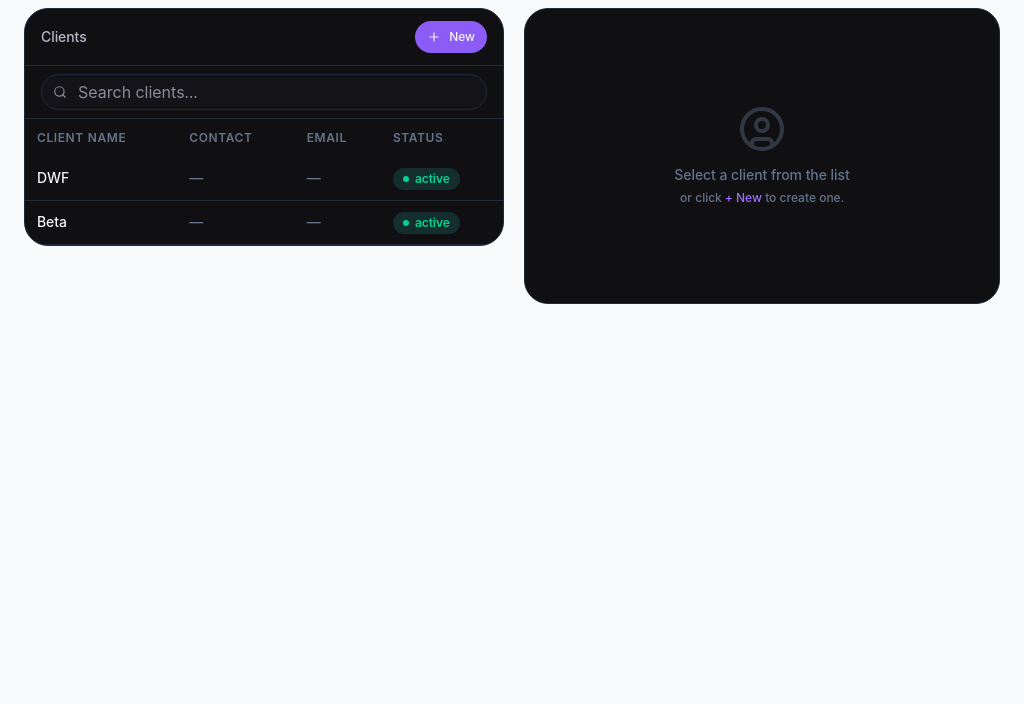
Test case: ClientManagementPage reporting currency › keeps the new client view intact when a save started for another client completes
This screenshot has width=1024, height=704.
Click the text "DWF": x=53, y=178 [37, 170, 69, 186]
(page scrolled)
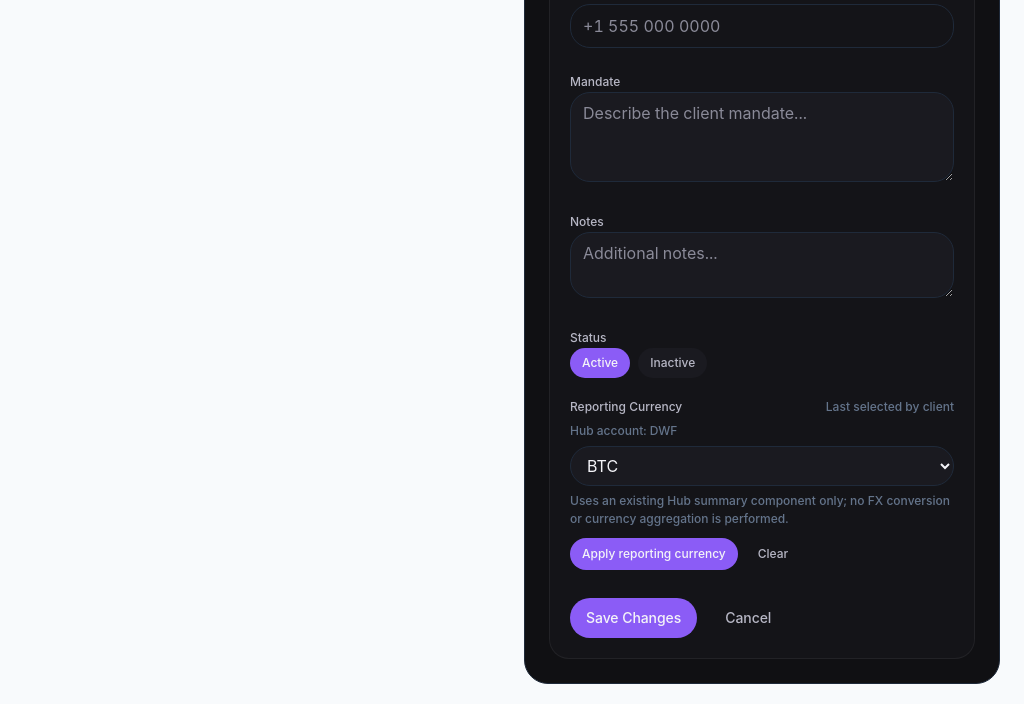
Click the button "Apply reporting currency": x=654, y=554 [570, 538, 738, 570]
(page scrolled)
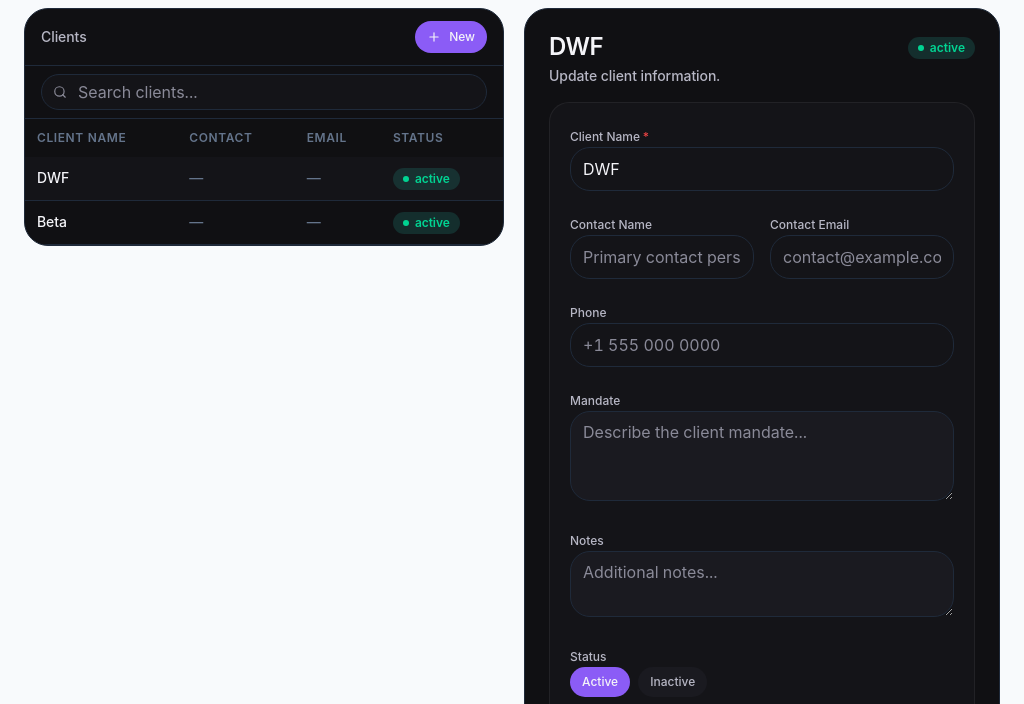
Click the text "Beta": x=52, y=222 [37, 214, 67, 230]
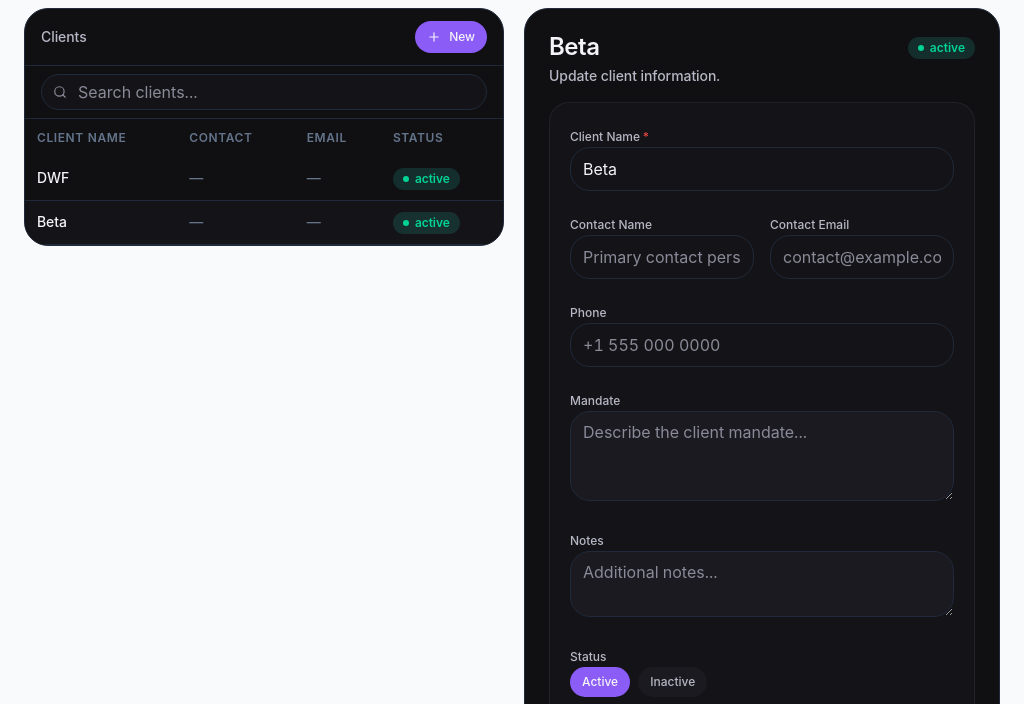
Now the heading "Beta" is shown, box [549, 32, 600, 61]
